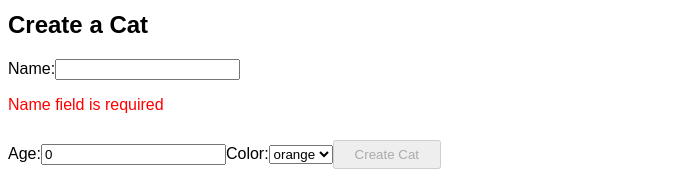
Test: (14 points) CatForm › (4 points) should have a controlled input for Name that shows a "Name field is required" error (only) when name is blank
Expected: the text "Name field is required" is shown, [8,96,164,113]
Error should disappear as user types
Type "C" into the field labelled "Name: Name field is required" at (148, 69), box [55,59,240,80]
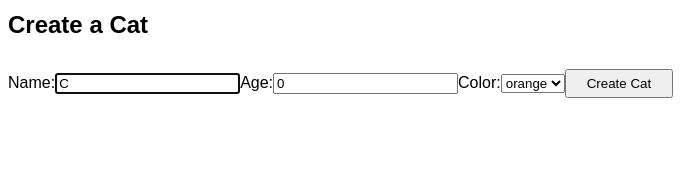
Now the text "Name field is required" is gone
